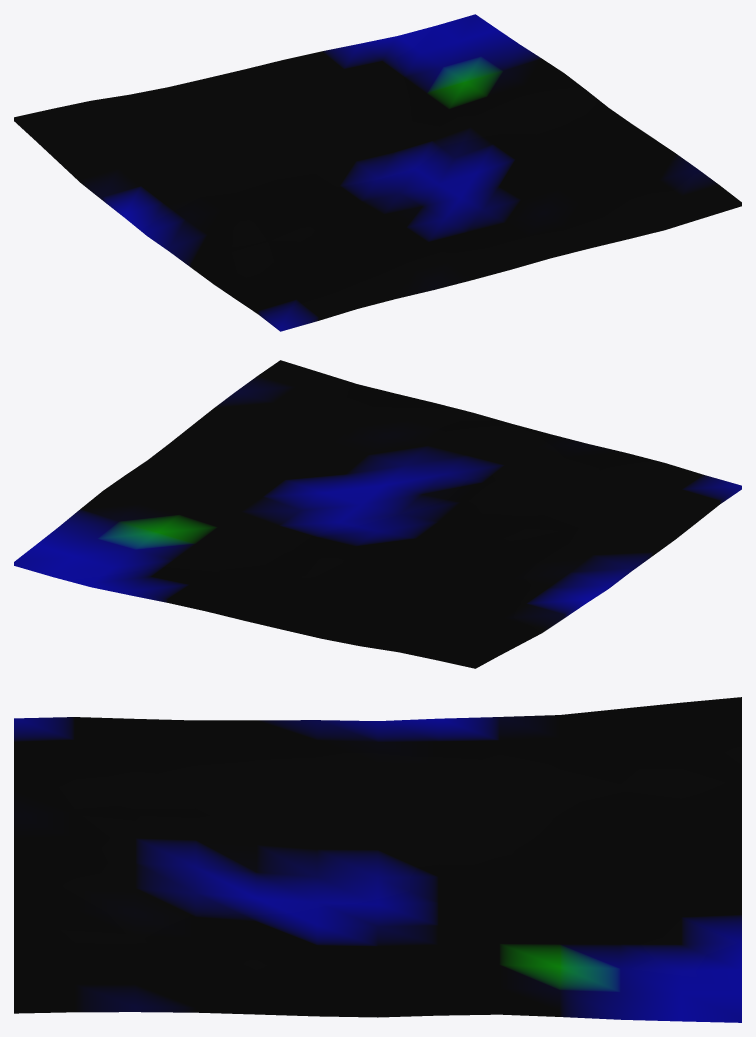
Rendered from coast_15_2.glb.
3 views of the same model, one above another, from view 1: azimuth 30°, elevation 25°; view 2: azimuth 150°, elevation 25°; view 3: azimuth 270°, elevation 25° (orthographic). The views are drawn at different scales.
Visible parts, largest first — view 1: terrain; view 2: terrain; view 3: terrain.
Boxes of the visible parts, x1=… form: terrain: x1=14, y1=14, x2=741, y2=331; terrain: x1=14, y1=360, x2=741, y2=668; terrain: x1=14, y1=697, x2=741, y2=1022.
Size of the model in its own units: 192 by 8.51 by 192.
